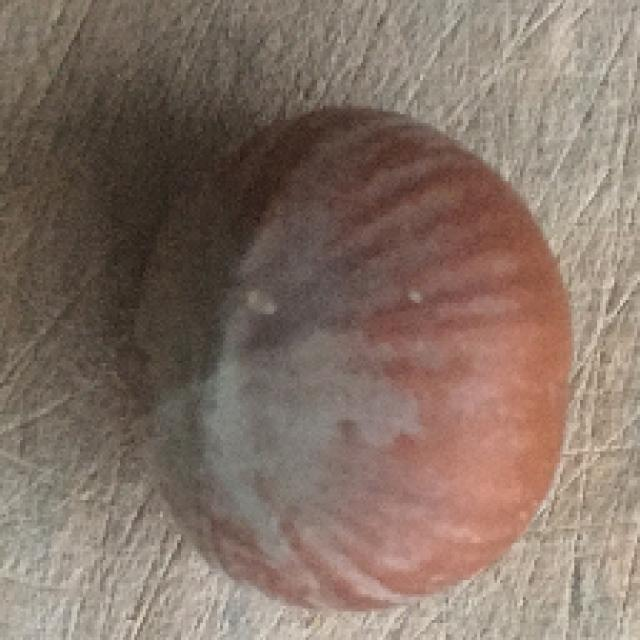qualityHazelnut: (132, 102, 576, 607)
